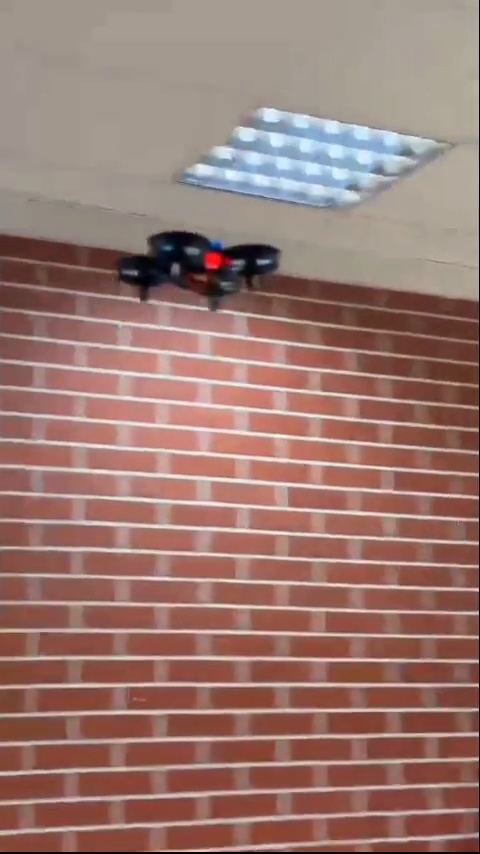drone: (116, 226, 280, 313)
